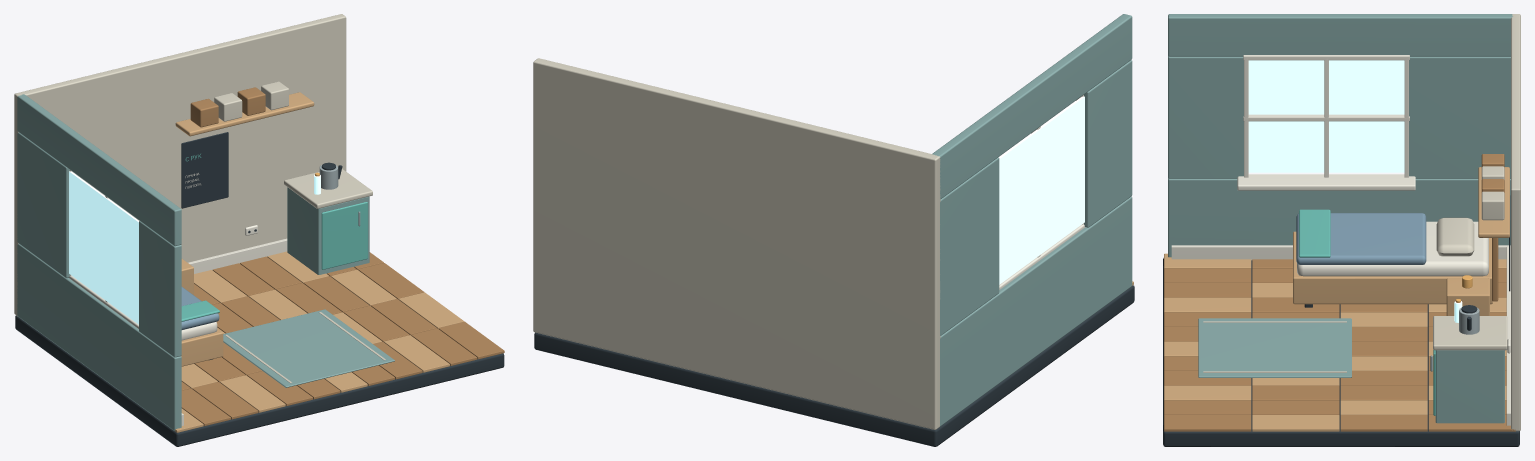
File: starter_room.glb
3 renders of one model, left to right at view 1: azimuth 30°, elevation 25°; view 2: azimuth 150°, elevation 25°; view 3: azimuth 270°, elevation 25°, orthographic. The views are drawn at different scales.
Visible parts, largest first — view 1: Back_wall, Left_wall_lower, Rug, Foundation, Window_glass, Left_wall_upper, Left_wall_back, Left_wall_front, Poster, Kitchen_cabinet, Kitchen_front, Kitchen_top (+37 smaller); view 2: Back_wall, Left_wall_lower, Window_glass, Foundation, Left_wall_upper, Left_wall_back, Left_wall_front; view 3: Window_glass, Left_wall_upper, Left_wall_lower, Left_wall_back, Left_wall_front, Rug, Foundation, Duvet, Kitchen_cabinet, Bed_frame, Back_wall, Mattress (+48 smaller).
Boxes of the visible parts, x1=… form: Back_wall: x1=14, y1=14, x2=346, y2=316; Left_wall_lower: x1=17, y1=244, x2=181, y2=430; Rug: x1=223, y1=309, x2=394, y2=387; Foundation: x1=15, y1=315, x2=504, y2=446; Window_glass: x1=69, y1=171, x2=138, y2=324; Left_wall_upper: x1=17, y1=94, x2=181, y2=246; Left_wall_back: x1=17, y1=132, x2=69, y2=277; Left_wall_front: x1=139, y1=221, x2=181, y2=357; Poster: x1=181, y1=132, x2=228, y2=208; Kitchen_cabinet: x1=287, y1=187, x2=369, y2=274; Kitchen_front: x1=321, y1=202, x2=367, y2=269; Kitchen_top: x1=284, y1=169, x2=372, y2=208; Back_wall: x1=533, y1=58, x2=940, y2=429; Left_wall_lower: x1=940, y1=196, x2=1132, y2=426; Window_glass: x1=999, y1=96, x2=1084, y2=284; Foundation: x1=534, y1=285, x2=1134, y2=446; Left_wall_upper: x1=932, y1=14, x2=1132, y2=198; Left_wall_back: x1=940, y1=157, x2=999, y2=335; Left_wall_front: x1=1084, y1=60, x2=1132, y2=227; Window_glass: x1=1248, y1=60, x2=1404, y2=172; Left_wall_upper: x1=1168, y1=14, x2=1512, y2=56; Left_wall_lower: x1=1168, y1=177, x2=1510, y2=257; Left_wall_back: x1=1409, y1=56, x2=1510, y2=178; Left_wall_front: x1=1168, y1=55, x2=1243, y2=178; Rug: x1=1198, y1=318, x2=1351, y2=377; Foundation: x1=1163, y1=258, x2=1519, y2=446; Duvet: x1=1296, y1=213, x2=1426, y2=264; Kitchen_cabinet: x1=1435, y1=350, x2=1504, y2=423; Bed_frame: x1=1293, y1=231, x2=1492, y2=304; Back_wall: x1=1511, y1=14, x2=1520, y2=431; Mattress: x1=1297, y1=221, x2=1488, y2=276.
Size of the model in its own units: 4.2 by 2.88 by 3.61.
